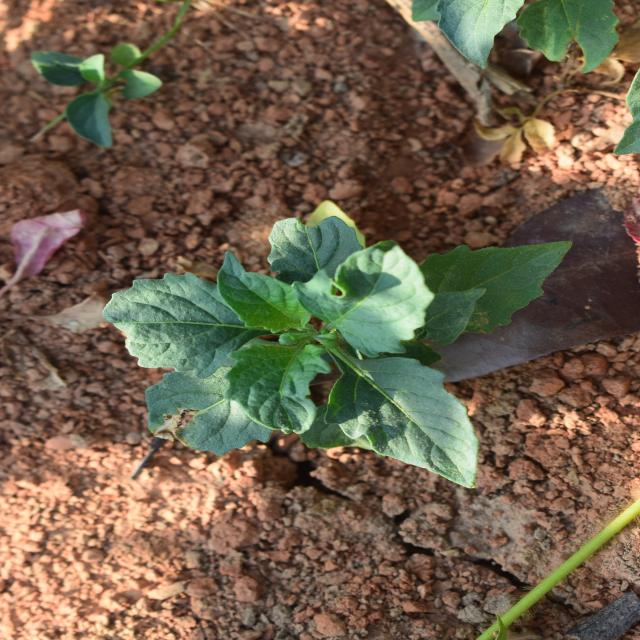Black_nightshade: (172, 125, 416, 530)
